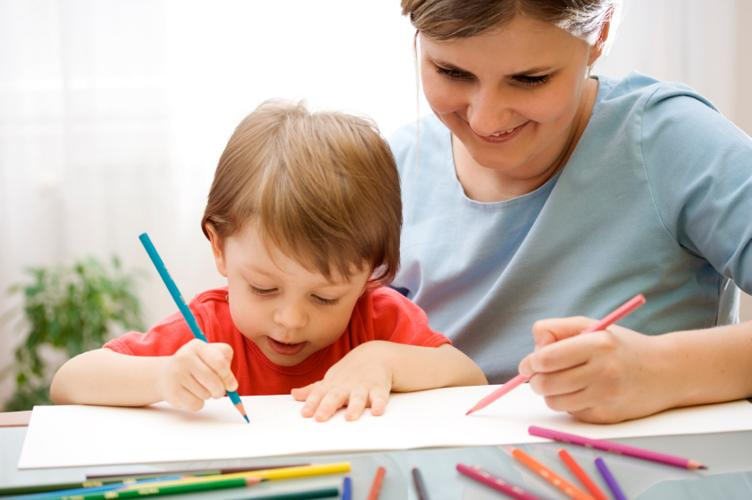person: (46, 99, 491, 420)
